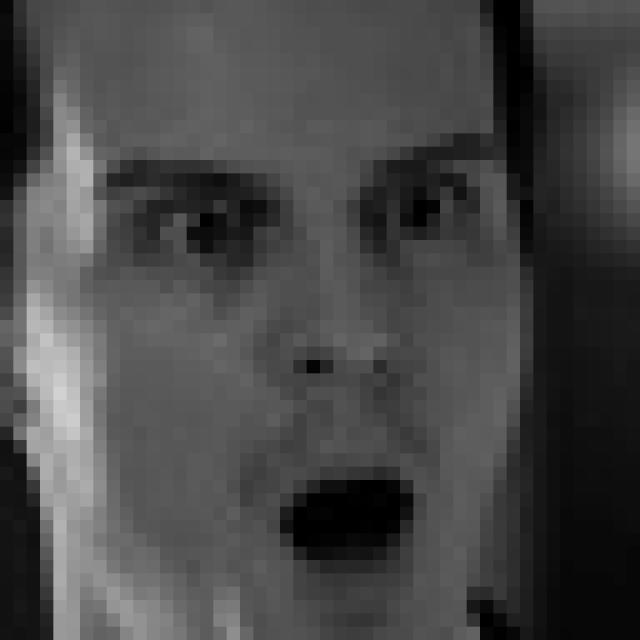surprise: (81, 117, 510, 603)
